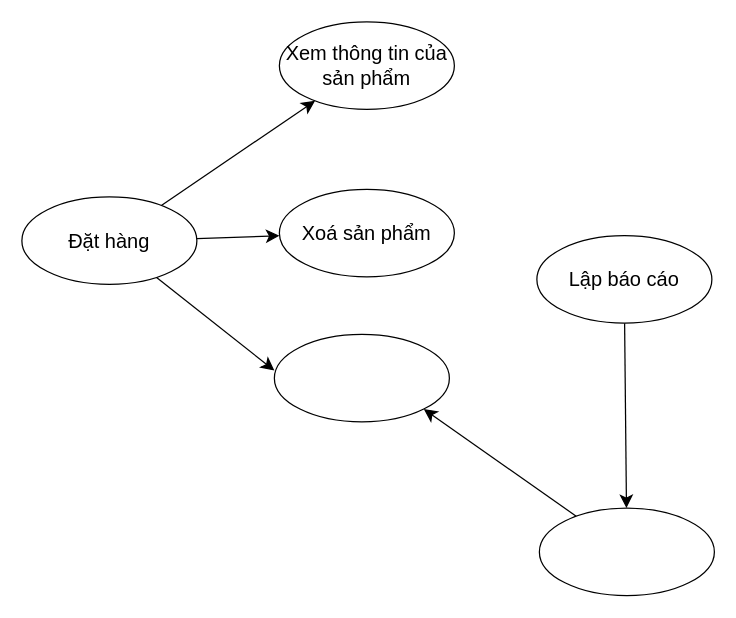
Image size: 736x618. Some labels were removed from this diagram. The shapes that lost their labels are listed below. From the top down, each one's centre as x and y in pixels, then its label:
At (x=361, y=377): "Sửa số lượng sản phẩm".
At (x=626, y=551): "Thanh toán".
